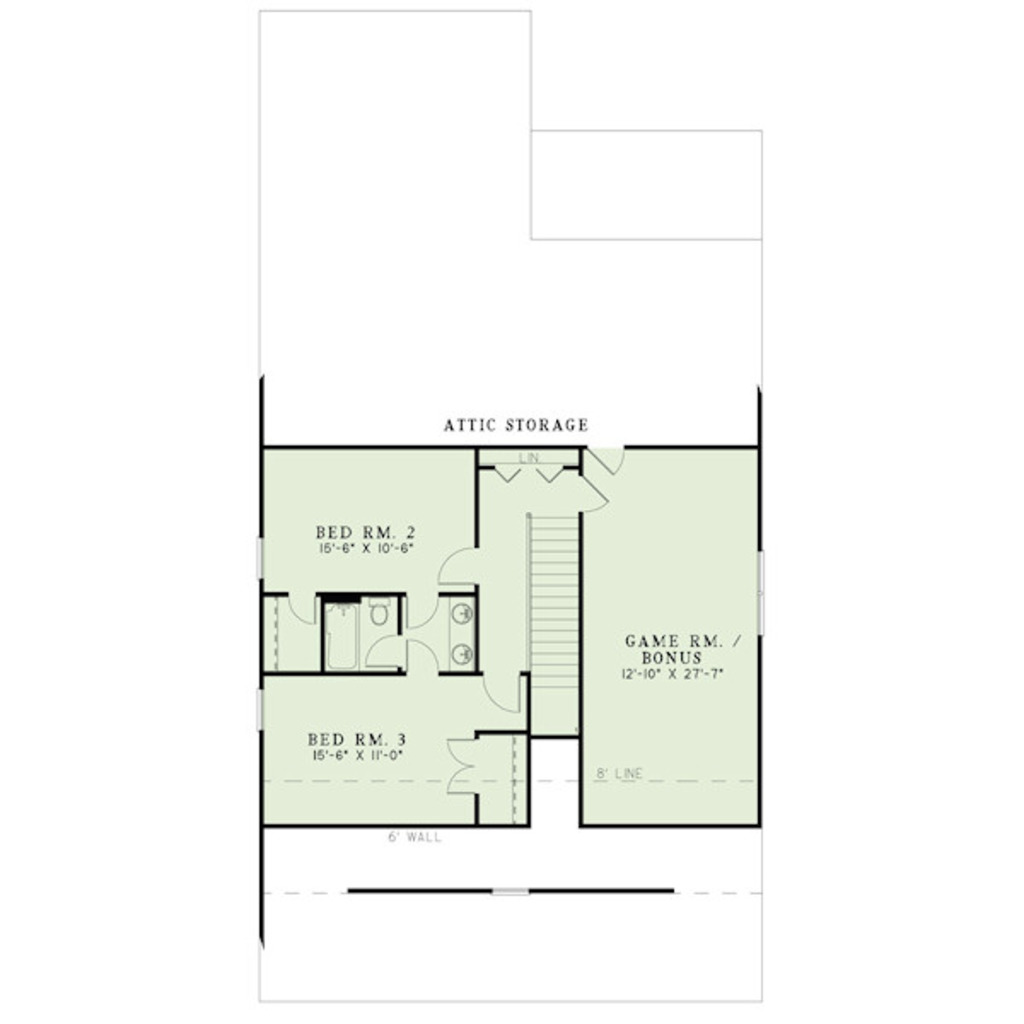door: (430, 542, 489, 591), (436, 730, 481, 794), (481, 674, 530, 716), (364, 627, 402, 678), (403, 583, 439, 635), (406, 639, 439, 682), (283, 591, 317, 628), (581, 477, 611, 513), (594, 444, 627, 471)
large_sink: (363, 589, 395, 628)
small_sink: (444, 592, 473, 671)
stairs: (522, 521, 588, 736)
tub: (322, 600, 359, 677)
window: (761, 549, 772, 642), (258, 532, 273, 583), (258, 691, 269, 732)
